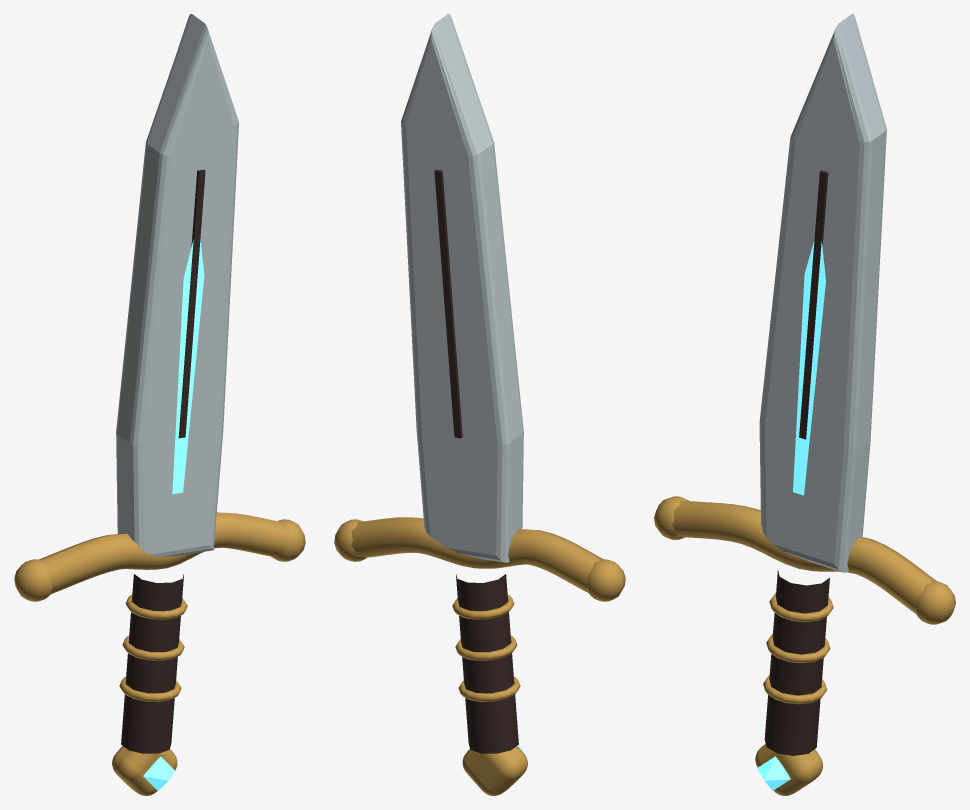
The model's file is weapon_saber.glb.
The picture shows the model from 3 angles, left to right: view 1: azimuth 30°, elevation 25°; view 2: azimuth 150°, elevation 25°; view 3: azimuth 330°, elevation 25°; orthographic projection. The views are drawn at different scales.
Visible parts, largest first — view 1: blade_mesh, weapon_grip, weapon_guard, weapon_rune, weapon_fuller_1, weapon_pommel, weapon_guard_cap_-1, weapon_guard_cap_1, weapon_trim_wrap_0, weapon_trim_wrap_2, weapon_trim_wrap_1, weapon_rune_pommel; view 2: blade_mesh, weapon_grip, weapon_guard, weapon_fuller_-1, weapon_pommel, weapon_guard_cap_-1, weapon_guard_cap_1, weapon_trim_wrap_0, weapon_trim_wrap_2, weapon_trim_wrap_1; view 3: blade_mesh, weapon_grip, weapon_guard, weapon_rune, weapon_fuller_1, weapon_pommel, weapon_guard_cap_1, weapon_guard_cap_-1, weapon_trim_wrap_2, weapon_trim_wrap_0, weapon_trim_wrap_1, weapon_rune_pommel.
Part boxes in pixels (x1,y1,x2,y2): blade_mesh: (116,14,238,556); weapon_grip: (121,574,183,753); weapon_guard: (39,512,286,594); weapon_rune: (172,239,204,494); weapon_fuller_1: (178,169,205,438); weapon_pommel: (112,746,177,795); weapon_guard_cap_-1: (14,559,51,601); weapon_guard_cap_1: (271,519,305,561); weapon_trim_wrap_0: (125,594,187,619); weapon_trim_wrap_2: (119,677,181,701); weapon_trim_wrap_1: (122,635,184,660); weapon_rune_pommel: (143,756,175,790); blade_mesh: (401,14,523,562); weapon_grip: (456,574,518,753); weapon_guard: (351,517,603,592); weapon_fuller_-1: (434,169,462,438); weapon_pommel: (462,746,527,795); weapon_guard_cap_-1: (586,559,625,601); weapon_guard_cap_1: (334,519,366,561); weapon_trim_wrap_0: (452,594,514,619); weapon_trim_wrap_2: (458,677,520,701); weapon_trim_wrap_1: (455,635,517,660); blade_mesh: (759,14,886,572); weapon_grip: (764,570,829,755); weapon_guard: (672,500,936,613); weapon_rune: (793,241,825,495); weapon_fuller_1: (799,170,828,439); weapon_pommel: (755,744,822,795); weapon_guard_cap_1: (914,581,955,624); weapon_guard_cap_-1: (654,496,688,539); weapon_trim_wrap_2: (763,675,827,704); weapon_trim_wrap_0: (769,593,833,622); weapon_trim_wrap_1: (766,634,830,663); weapon_rune_pommel: (757,756,790,790).
Size of the model in its own units: 0.9609 by 2.44 by 0.2287.
